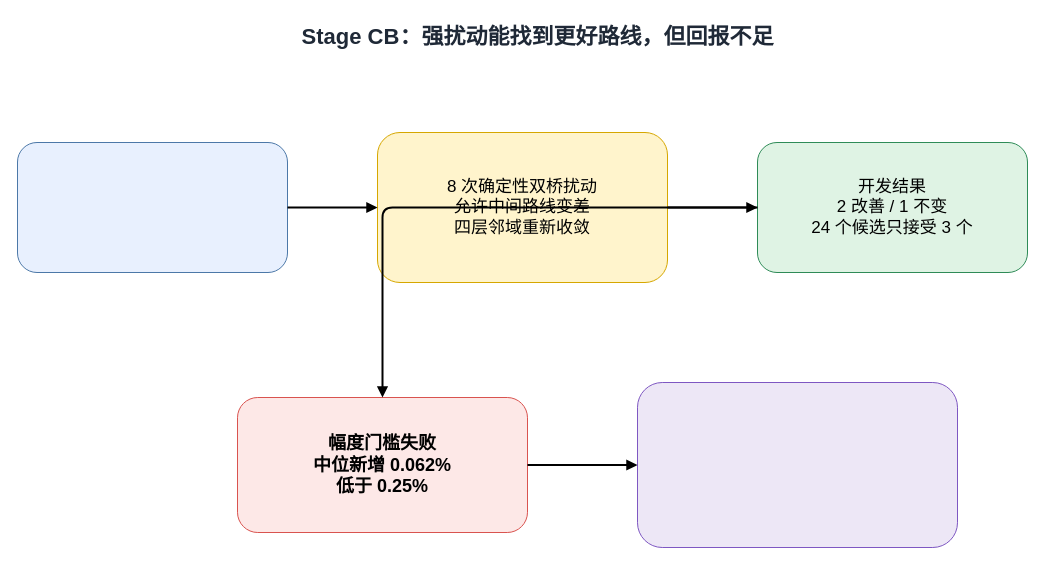
The diagram is 1045 pixels wide and 565 high, and some of its shapes have lost their labels. The centre of each missing label's shape, as x and y in pixels:
"Stage BZ 当前最佳 严格下降邻域都已停止 中位总降幅 13.32%" belongs at pixel 152 207.
"停止决定 不增加到 16 次 整理最终质量管线 强扰动仅作可选极限步骤" belongs at pixel 797 465.
